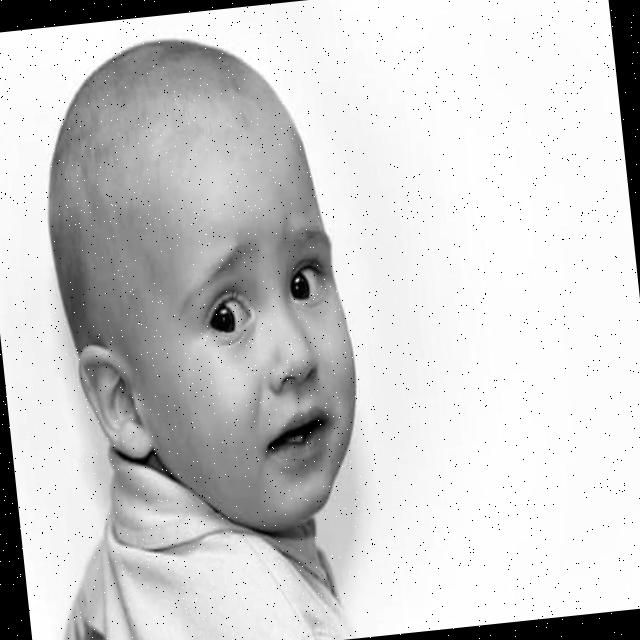Fear: (119, 110, 370, 544)
